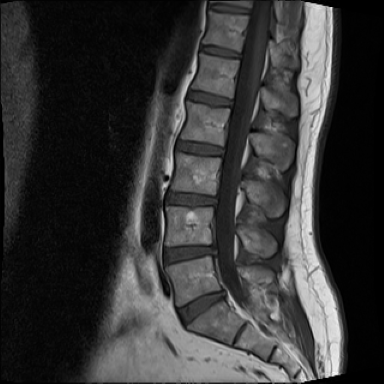Lumbar Disc Bulge (LDB): (170, 274, 234, 334), (154, 233, 223, 271)
Normal IVD: (158, 185, 220, 211), (169, 134, 228, 161), (181, 84, 234, 110), (195, 40, 244, 63), (200, 2, 253, 14)
Spinal Stenosis (SS): (205, 280, 229, 314), (203, 236, 222, 265)
